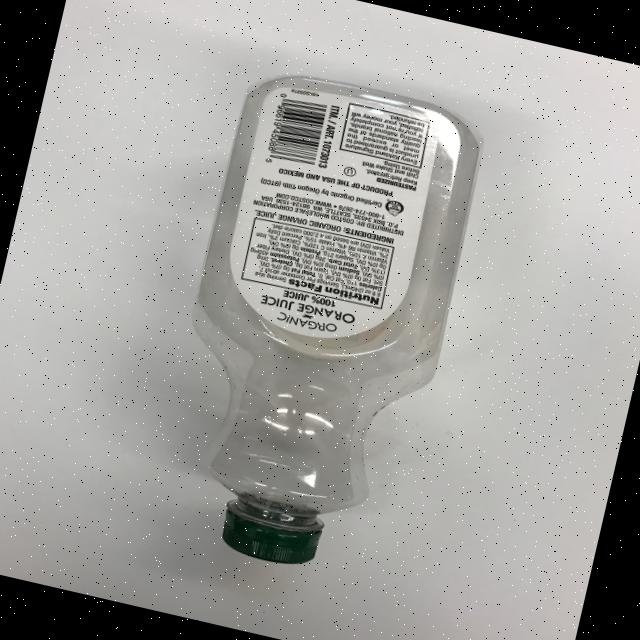plastic: (141, 59, 496, 582)
